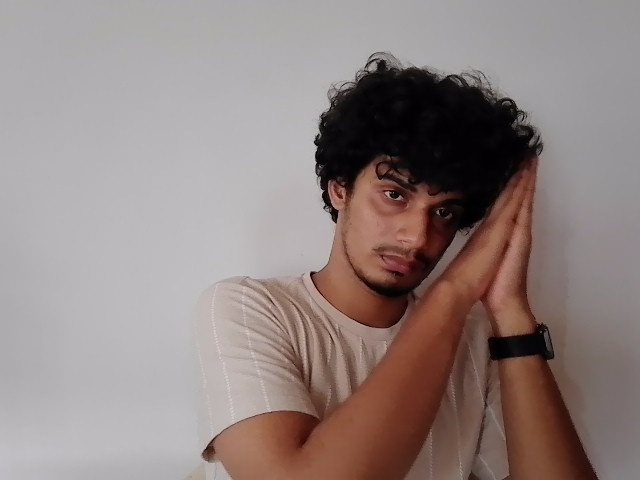sleep: (437, 149, 539, 305)
